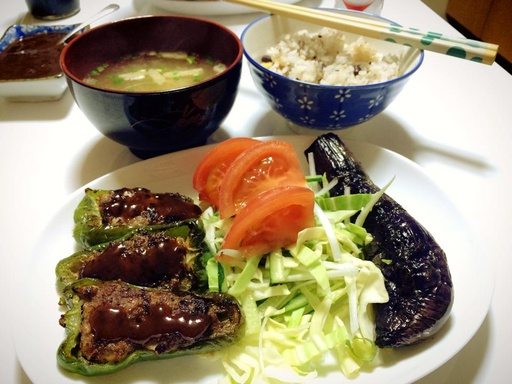background: (43, 79, 363, 230), (106, 16, 318, 50), (65, 26, 184, 55), (0, 19, 63, 48)
